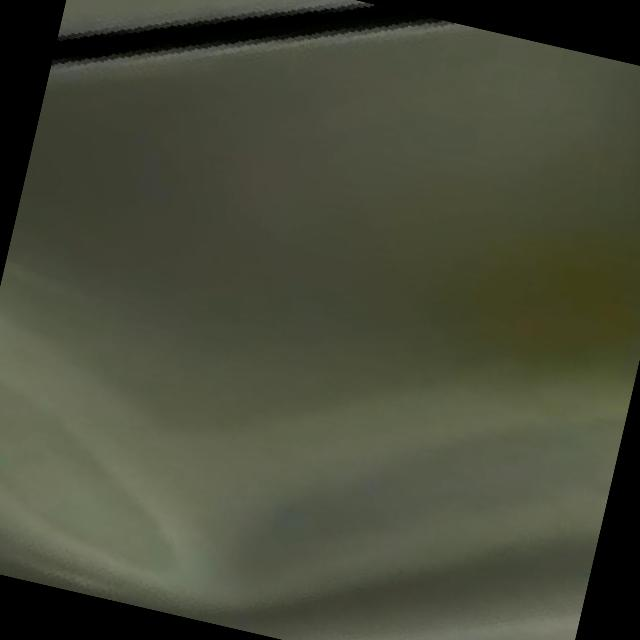dent: (0, 123, 613, 640)
